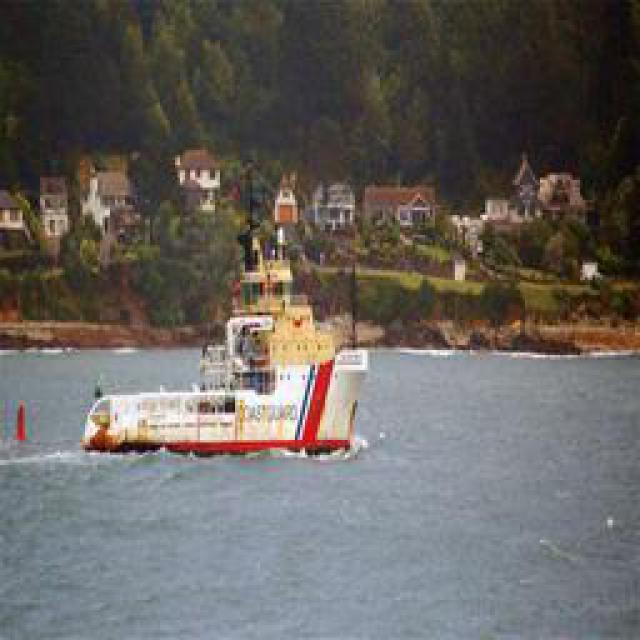Ship: (81, 322, 376, 460)
